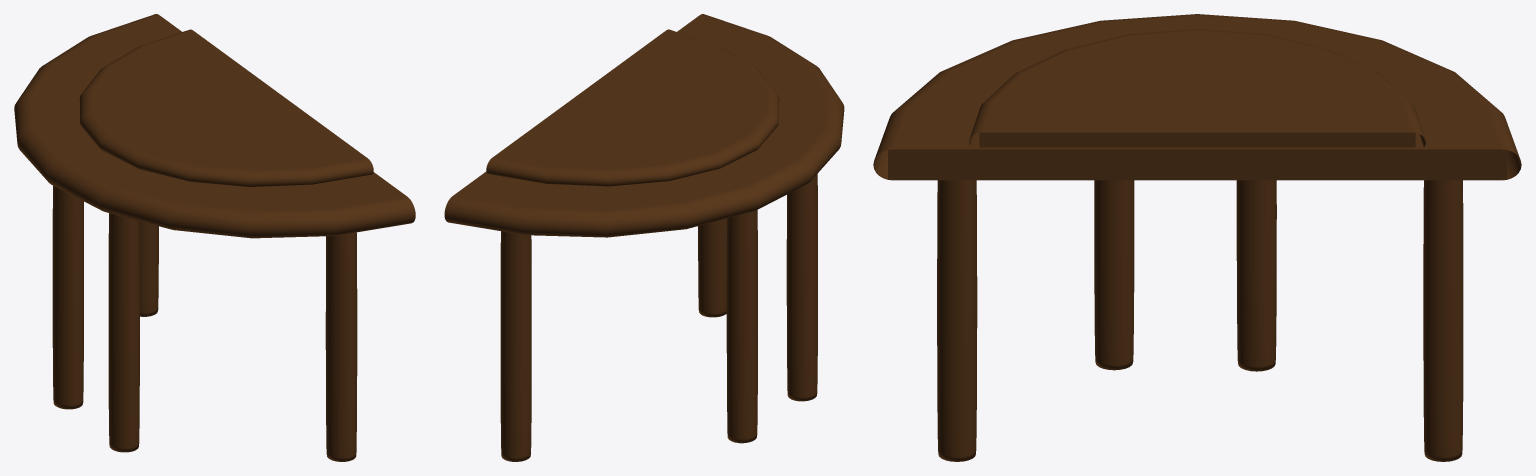
File: mesa.obj
The picture shows the model from 3 angles, left to right: view 1: azimuth 30°, elevation 25°; view 2: azimuth 150°, elevation 25°; view 3: azimuth 270°, elevation 25°; orthographic projection. The views are drawn at different scales.
Visible parts, largest first — view 1: banco:pasted__pCylinder1group1; view 2: banco:pasted__pCylinder1group1; view 3: banco:pasted__pCylinder1group1.
Part boxes in pixels (x1,y1,x2,y2): banco:pasted__pCylinder1group1: (14, 14, 415, 461); banco:pasted__pCylinder1group1: (444, 14, 844, 461); banco:pasted__pCylinder1group1: (873, 14, 1521, 461).
Size of the model in its own units: 0.418 by 0.4726 by 0.807.
